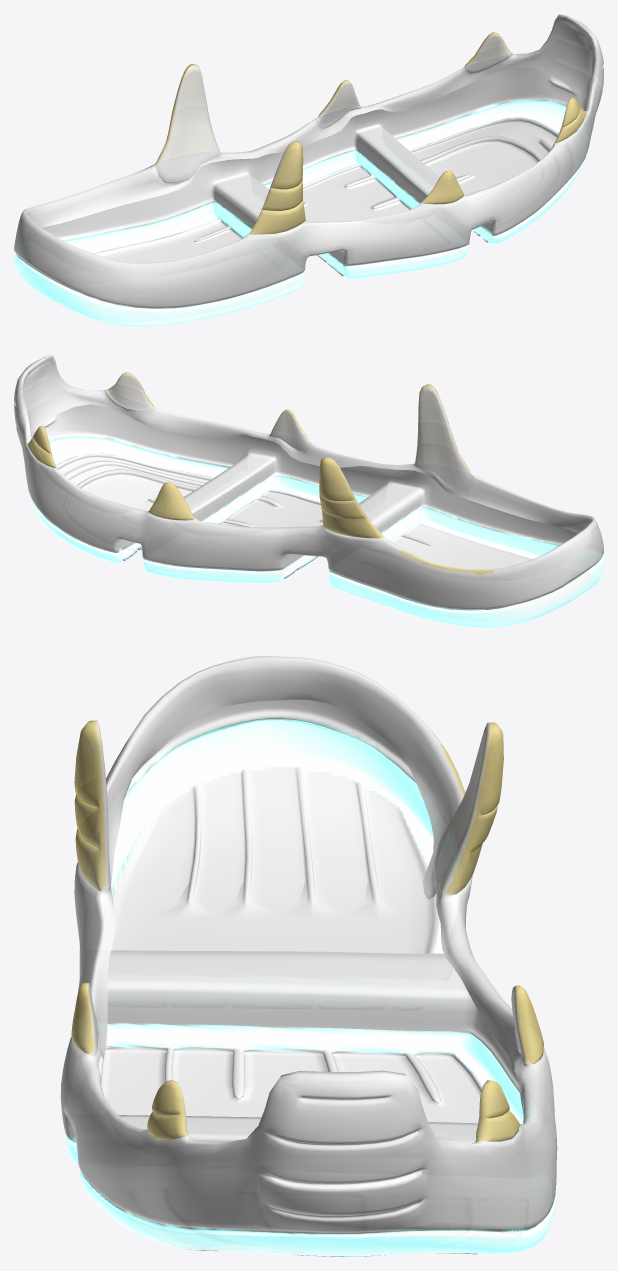
The picture shows the model from 3 angles, top to bottom: view 1: azimuth 30°, elevation 25°; view 2: azimuth 150°, elevation 25°; view 3: azimuth 270°, elevation 25°; orthographic projection. The views are drawn at different scales.
Parts seen in each view (by area): view 1: Mesh_6.001; view 2: Mesh_6.001; view 3: Mesh_6.001.
Boxes of the visible parts, x1=… form: Mesh_6.001: x1=14, y1=14, x2=603, y2=326; Mesh_6.001: x1=14, y1=355, x2=603, y2=627; Mesh_6.001: x1=60, y1=656, x2=557, y2=1256.
Size of the model in its own units: 5.01 by 1.26 by 1.95.
Materials: 1 (1 with a texture image).
